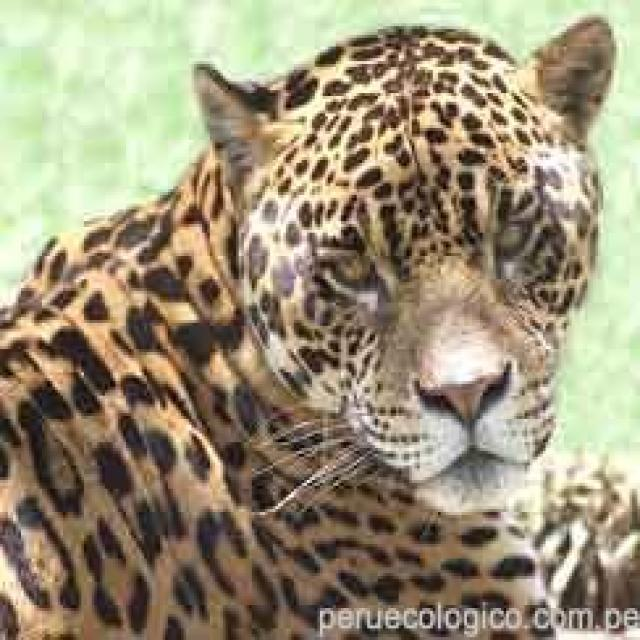Leopard: (0, 15, 635, 634)
